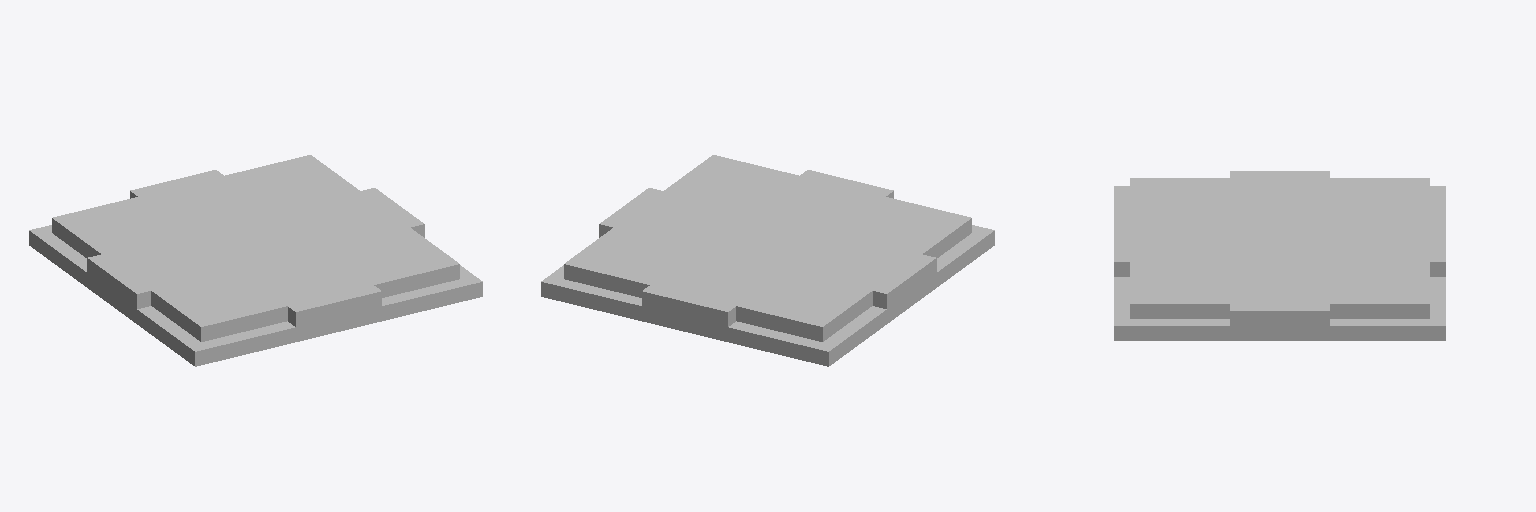
File: crossroad.obj
3 renders of one model, left to right at view 1: azimuth 30°, elevation 25°; view 2: azimuth 150°, elevation 25°; view 3: azimuth 270°, elevation 25°, orthographic.
Size of the model in its own units: 20 by 2 by 20.